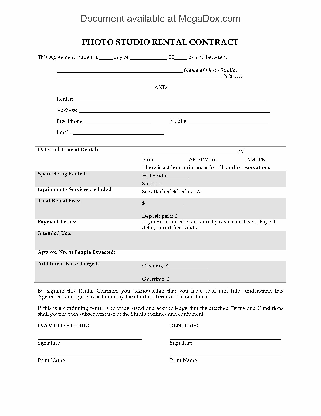textline: (75, 95, 269, 103), (79, 106, 271, 114), (36, 347, 143, 359), (170, 347, 282, 358), (169, 330, 286, 340), (36, 331, 143, 341), (56, 65, 183, 73), (56, 73, 222, 79), (72, 129, 166, 137), (190, 117, 269, 126), (142, 149, 236, 156), (86, 117, 152, 125), (145, 199, 185, 207), (169, 262, 209, 270), (130, 53, 165, 61), (177, 213, 213, 220), (169, 276, 210, 282), (156, 156, 187, 163), (163, 181, 190, 188), (217, 158, 246, 164), (168, 172, 189, 179), (99, 53, 113, 61), (175, 53, 188, 61), (245, 149, 257, 155)
